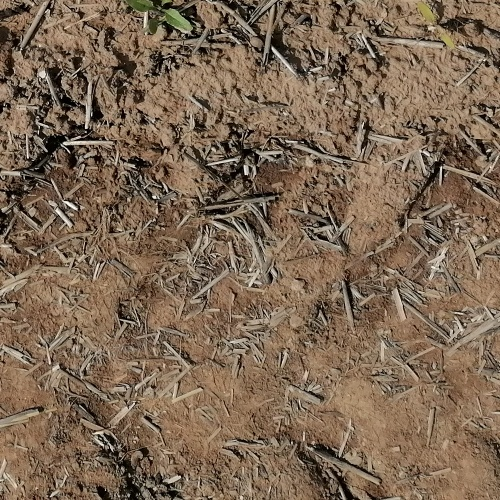beet: (127, 0, 194, 34), (419, 1, 456, 50)
